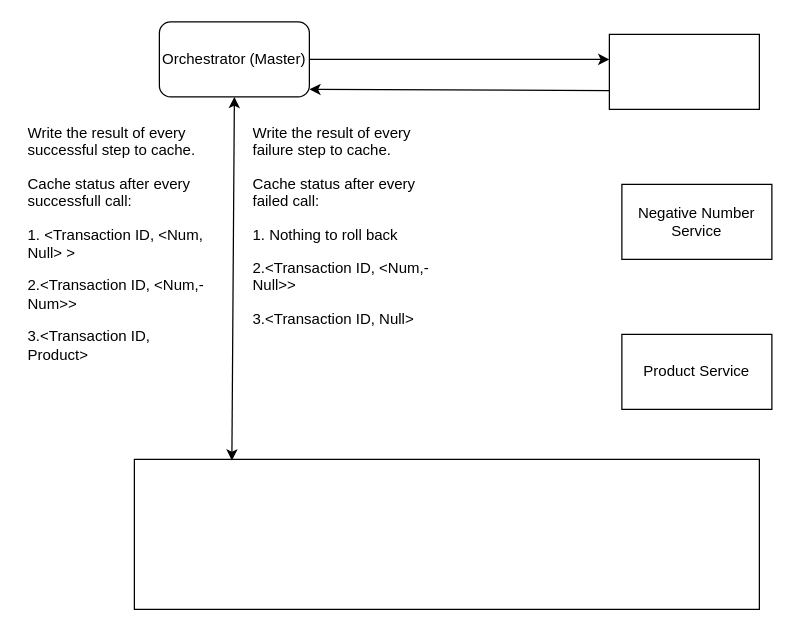
The diagram is 794 pixels wide and 631 high, and some of its shapes have lost their labels. Here are the shapes that lost their labels. From the top down, the centre of each, then its label:
point (683, 71): Positive Number Service
point (446, 533): Cache
